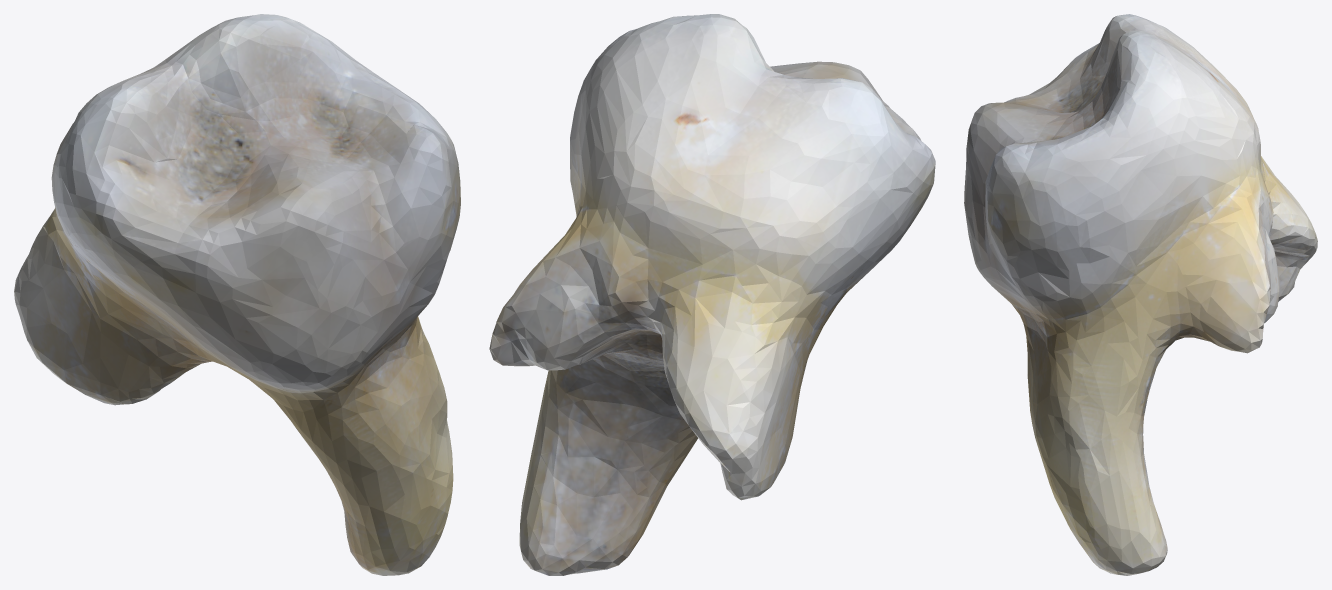
Rendered from teeth.fbx.
3 renders of one model, left to right at view 1: azimuth 30°, elevation 25°; view 2: azimuth 150°, elevation 25°; view 3: azimuth 270°, elevation 25°, orthographic. The views are drawn at different scales.
Parts seen in each view (by area): view 1: teeth2; view 2: teeth2; view 3: teeth2.
Part boxes in pixels (x1,y1,x2,y2): teeth2: (14, 14, 460, 575); teeth2: (489, 14, 935, 575); teeth2: (964, 14, 1317, 575).
Bounding box in the file's own units: 1.66 × 2.47 × 1.66.
Materials: 1 (1 with a texture image).
